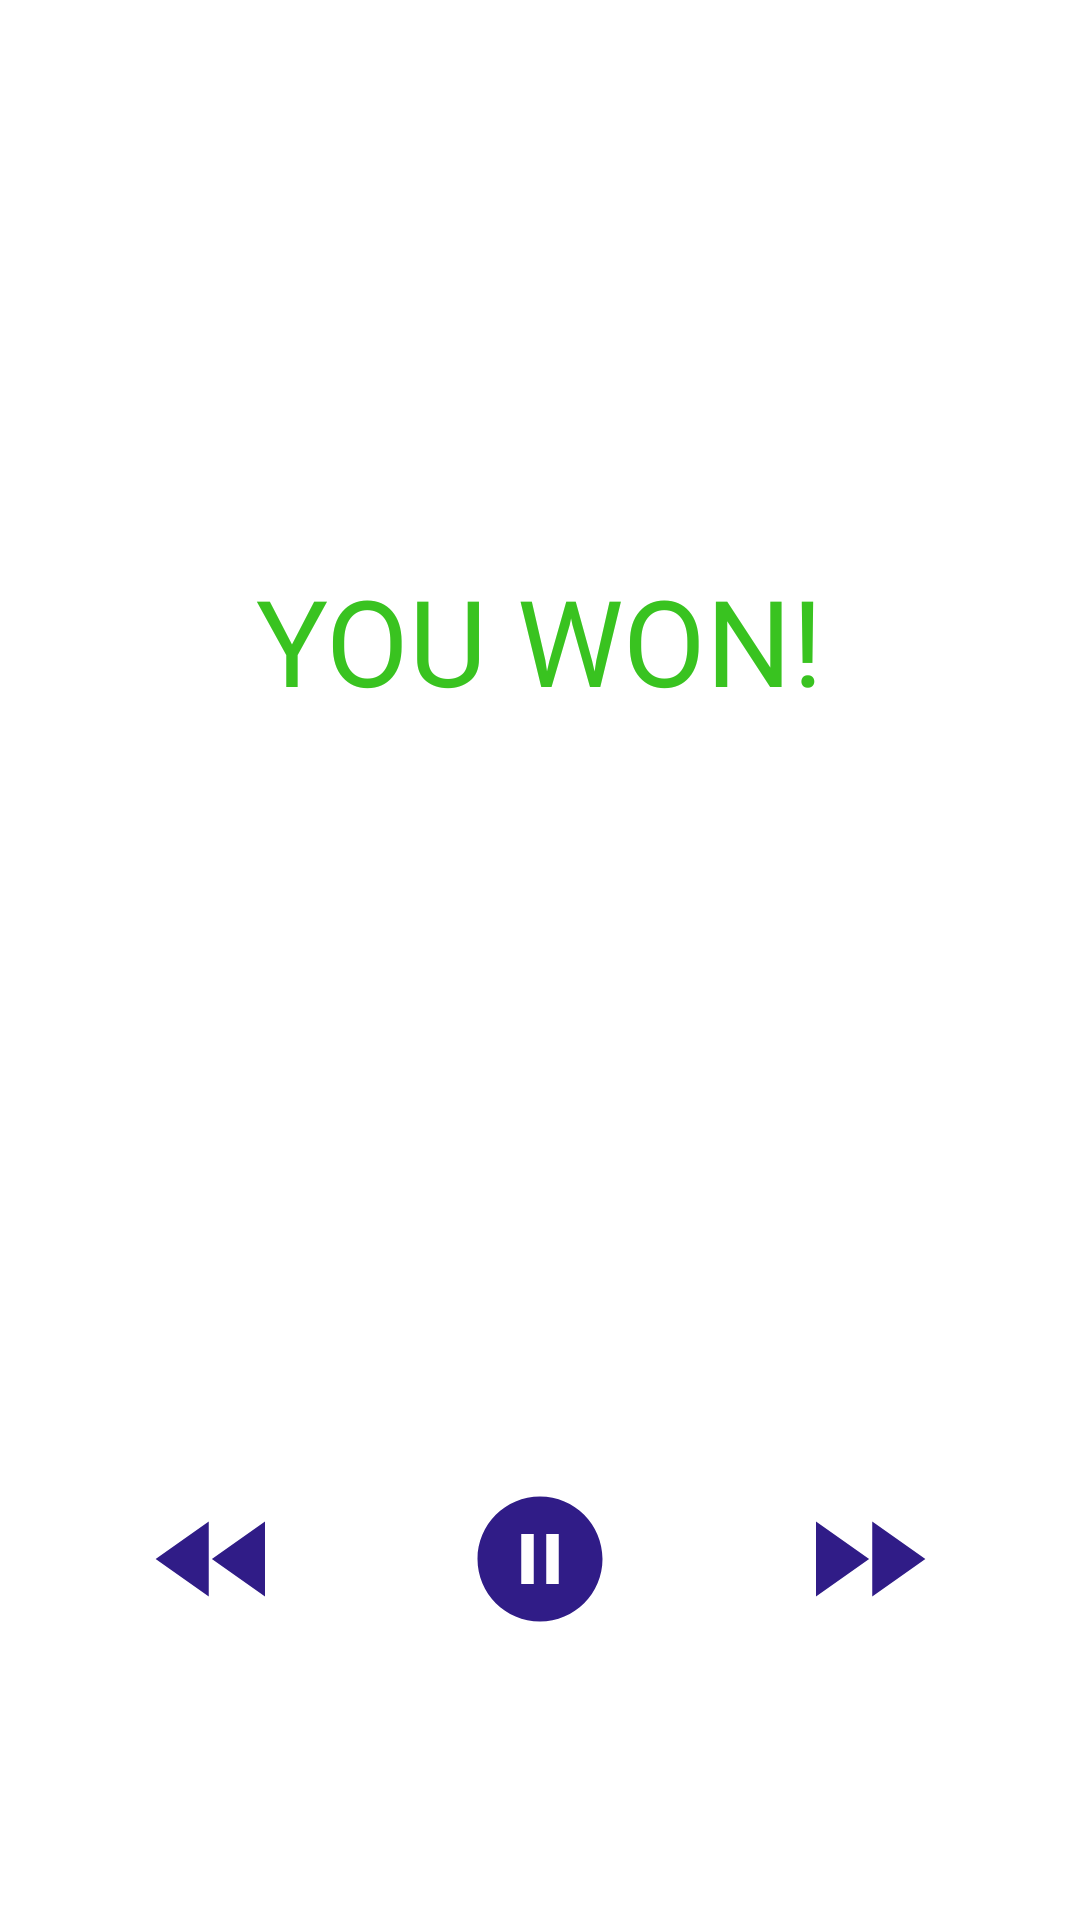

Screen size 1080px x 1920px. Icon name, then its box in pixels as (x1, y1, x2, y2):
fast forward: (816, 1521, 925, 1597)
pause: (477, 1496, 603, 1622)
rewind: (156, 1521, 265, 1597)
